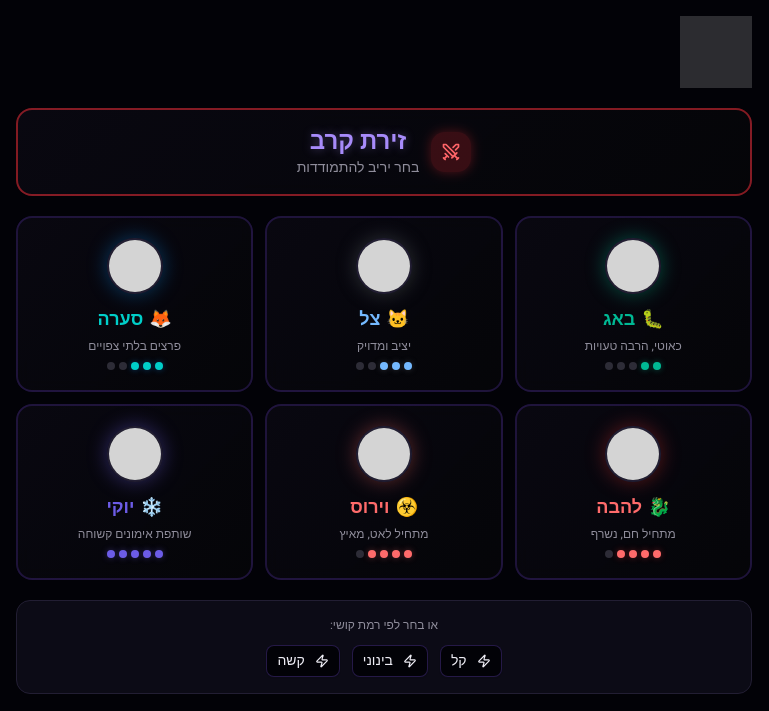
Test: BattleArena › shows countdown after selecting difficulty
This screenshot has width=769, height=711.
Click the button with test id "difficulty-easy": (471, 661) 440,645 -> 502,677
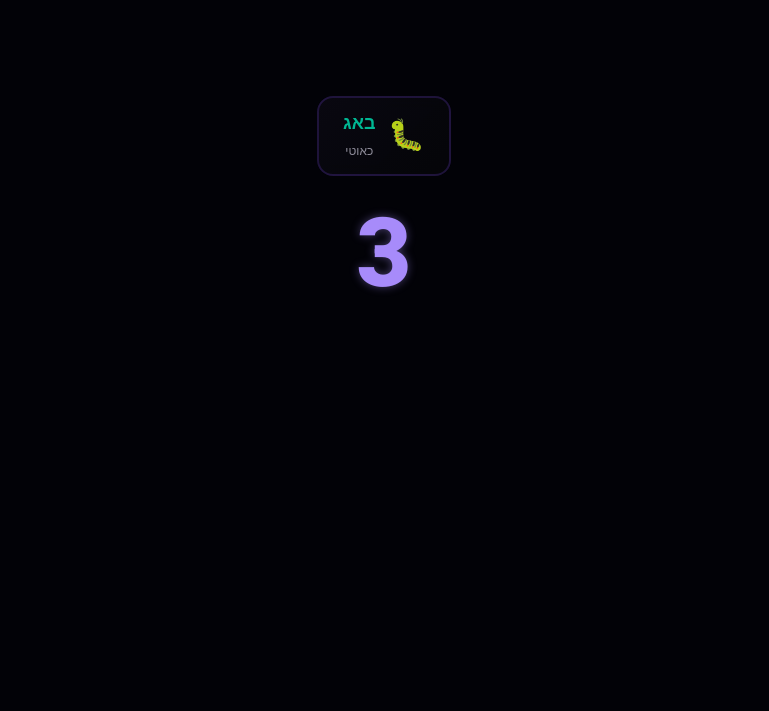
expect the text "3" is shown: met, box 356,185 -> 412,326
